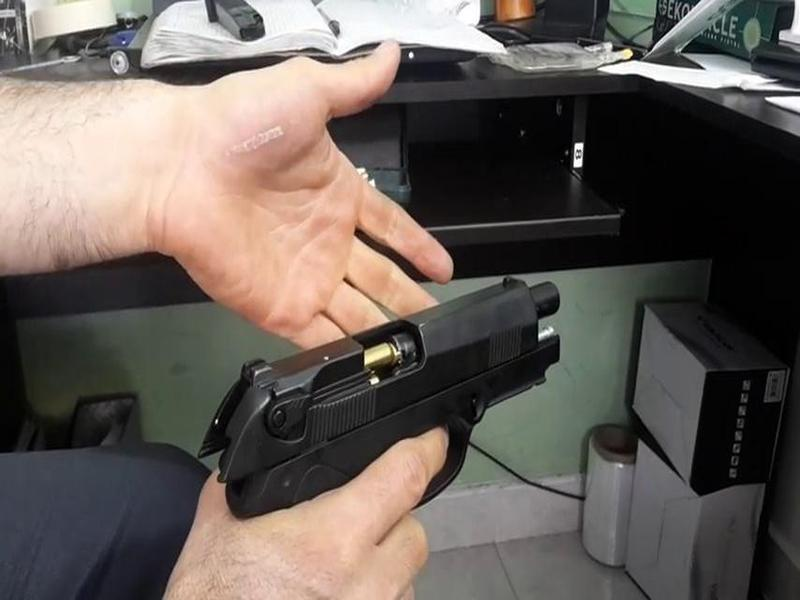Pistola: (190, 253, 576, 521)
